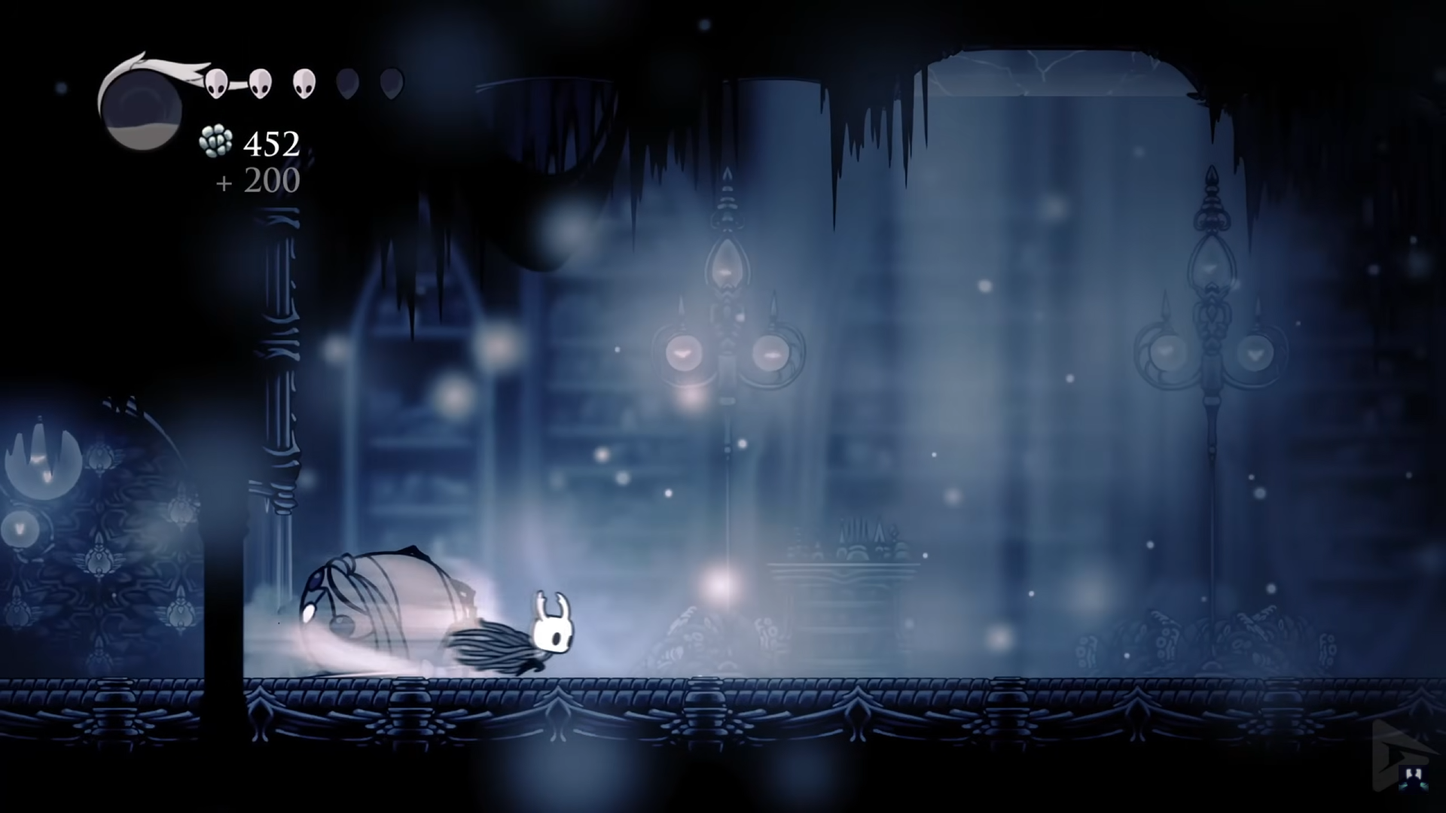HK: (444, 589, 579, 677)
